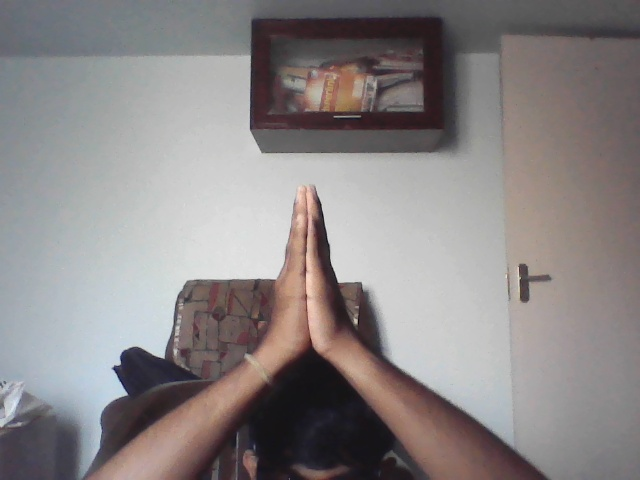Sign: (248, 181, 361, 382)
